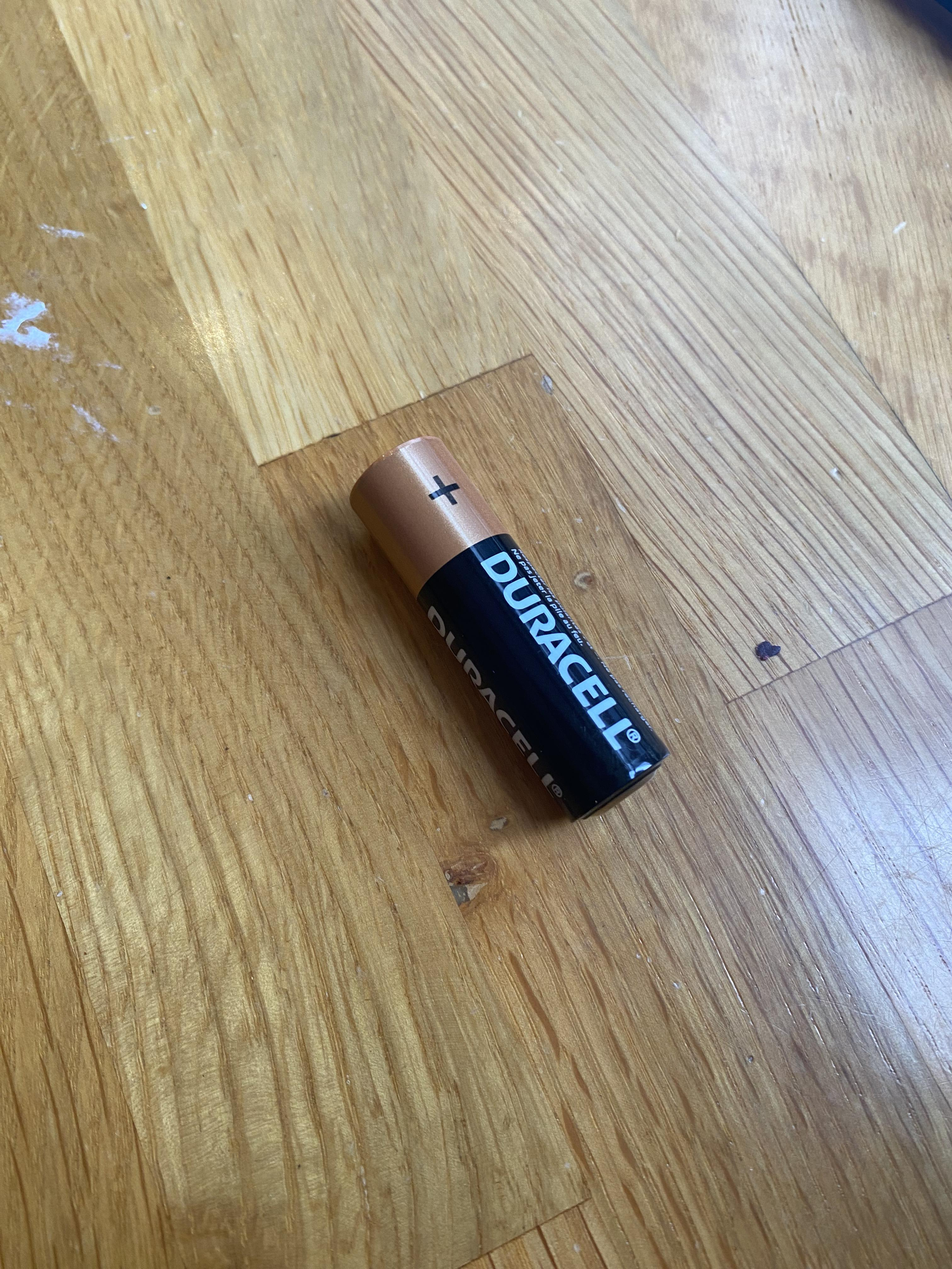AA: (347, 433, 671, 823)
